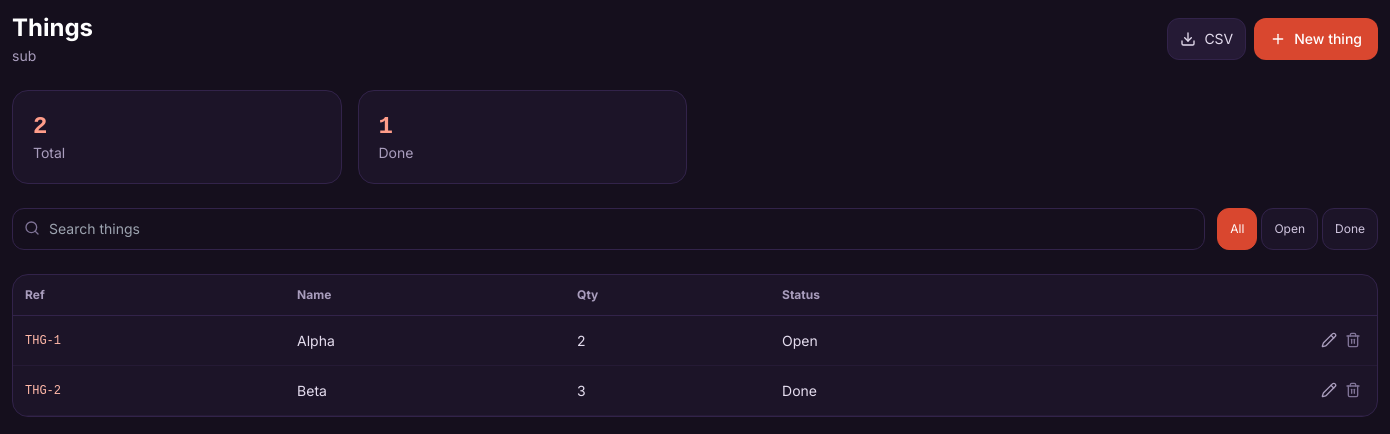
it: RecordsPage › shows rows and KPIs computed from them, and filters by search
Expected: the text "Alpha" is shown, [285,316,565,366]
Expected: the text "Beta" is shown, [285,366,565,416]
Type "alp" into the field with placeholder "Search things" at (609, 229), box [12,208,1205,250]
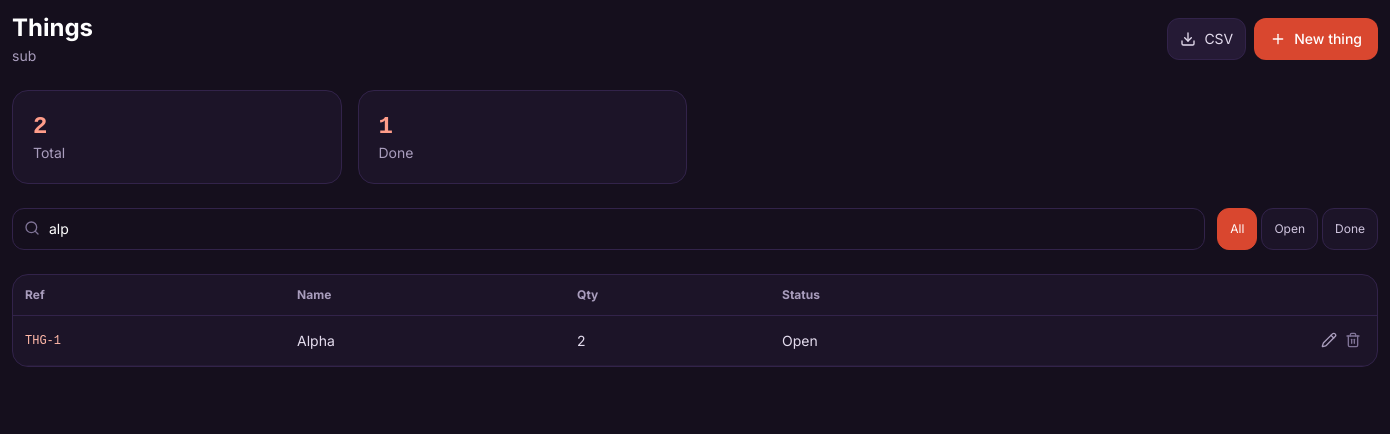
Expected: the text "Alpha" is shown, [285,316,565,366]
Expected: the text "Beta" is gone
